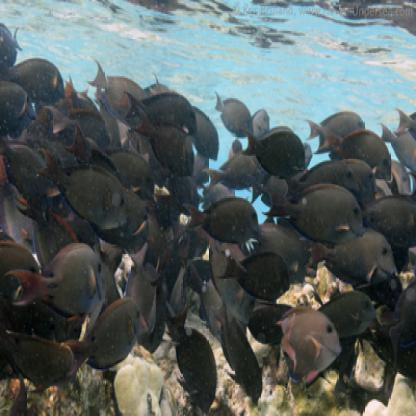Bio: (7, 237, 106, 318), (39, 145, 127, 230), (64, 294, 142, 380), (261, 183, 367, 244), (83, 54, 156, 131), (268, 302, 348, 370), (307, 226, 396, 287), (211, 304, 263, 406), (168, 312, 218, 410), (318, 124, 394, 183), (134, 106, 198, 176), (177, 194, 261, 242), (218, 244, 290, 300), (0, 137, 60, 203), (122, 89, 198, 140), (1, 54, 70, 106), (202, 143, 272, 192), (304, 108, 372, 150), (311, 292, 377, 334), (178, 98, 222, 160), (214, 87, 254, 139), (0, 78, 38, 132), (250, 108, 272, 138)
